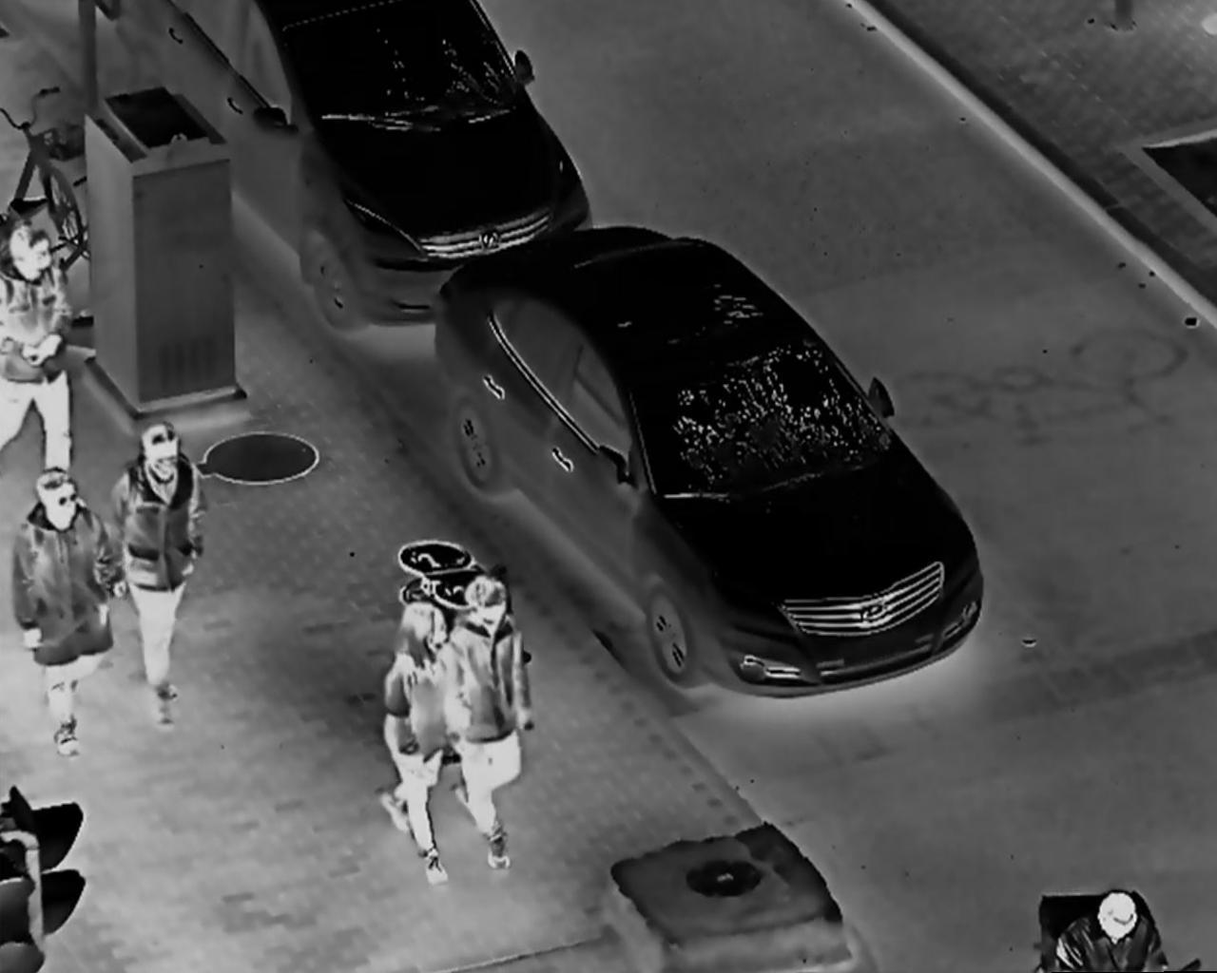person: (10, 451, 130, 754), (117, 416, 209, 739), (447, 576, 531, 870), (376, 598, 460, 887), (1055, 888, 1178, 973)
